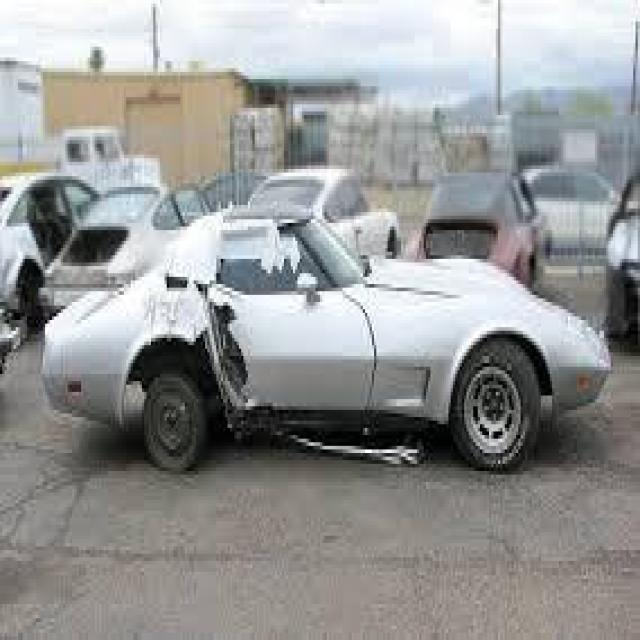damaged: (164, 201, 300, 421)
